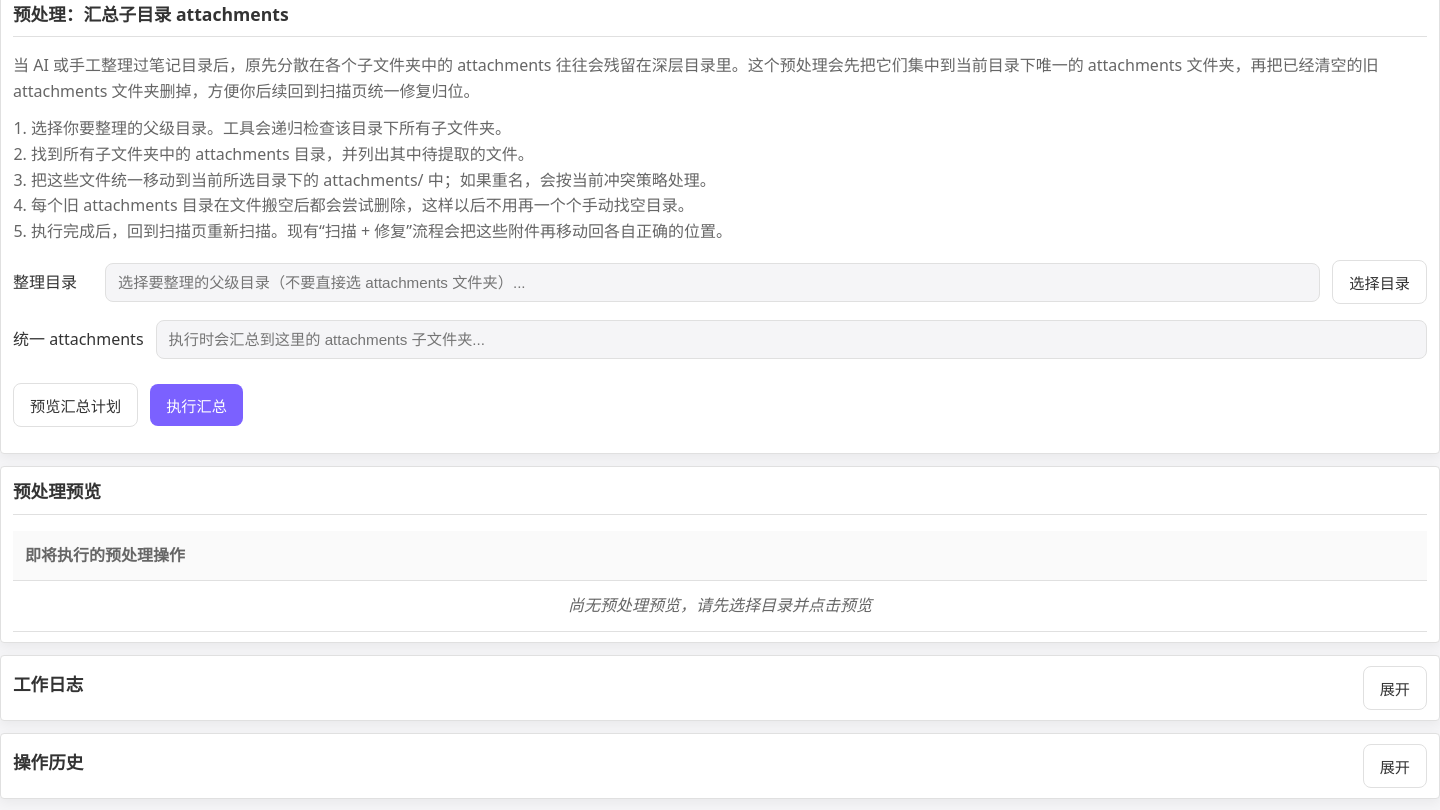
it: flatten preview requires selecting a root folder
The width and height of the screenshot is (1440, 810).
(page scrolled)
Click the button "预览汇总计划" at [76, 405], box [13,383,138,427]
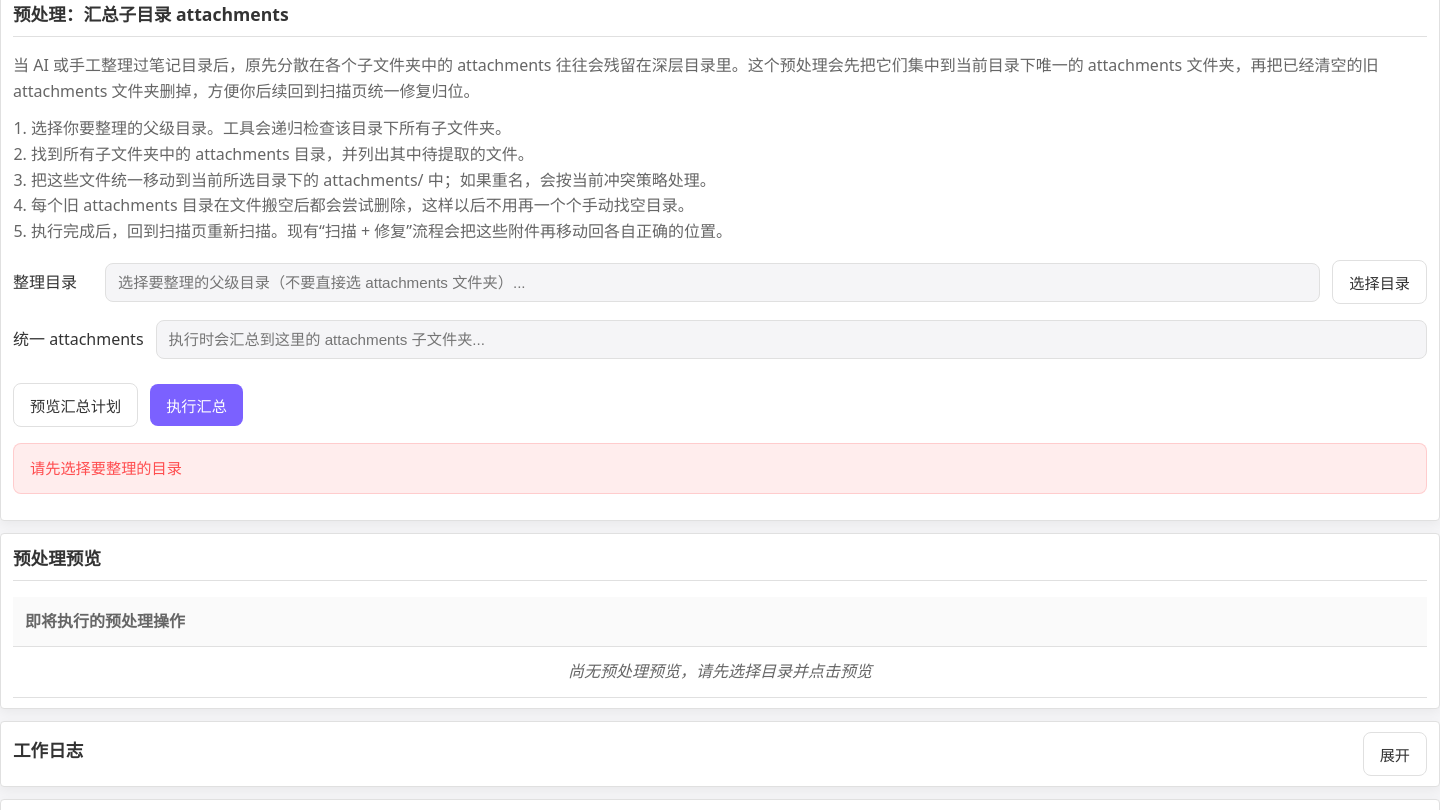
Expected: the text "请先选择要整理的目录" is shown, [13,443,1427,494]
